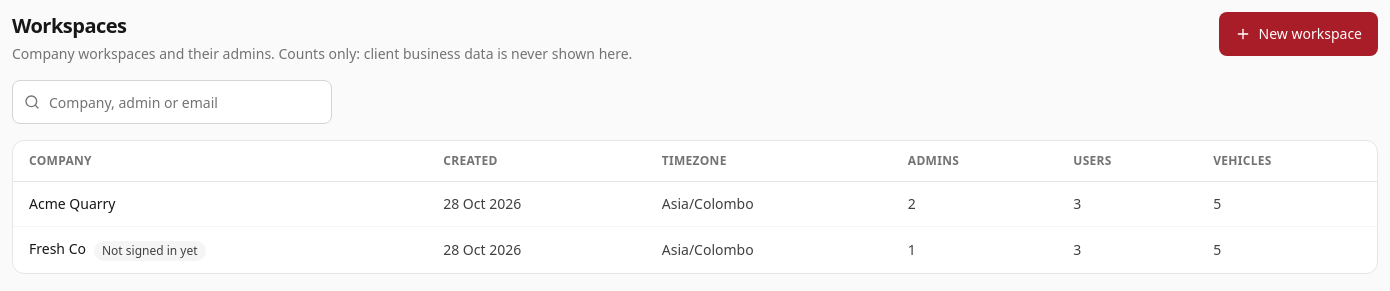
Test: Workspaces page › lists workspaces with admin counts and a "Not signed in yet" chip only where no admin has signed in
The width and height of the screenshot is (1390, 291).
Expected: the text "Not signed in yet" is shown, [94,241,206,261]
Type "fresh" into the search field named "Search workspaces" at (172, 102), box [12,80,332,124]
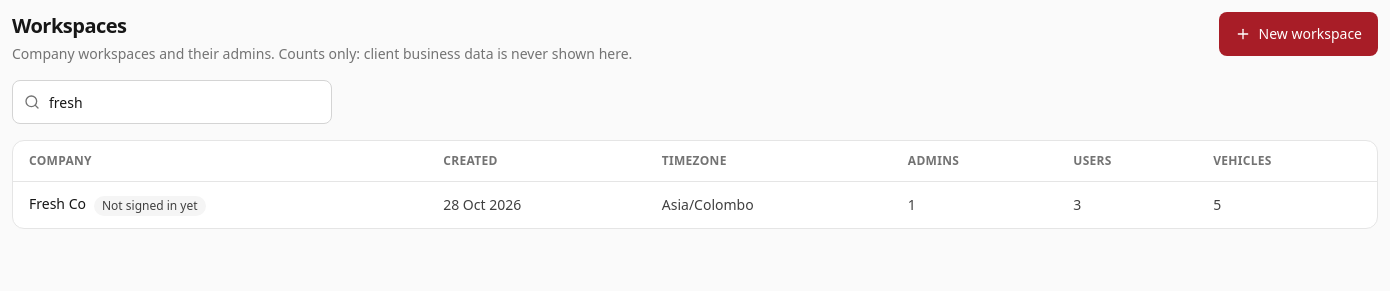
Expected: the link "Acme Quarry" is gone
